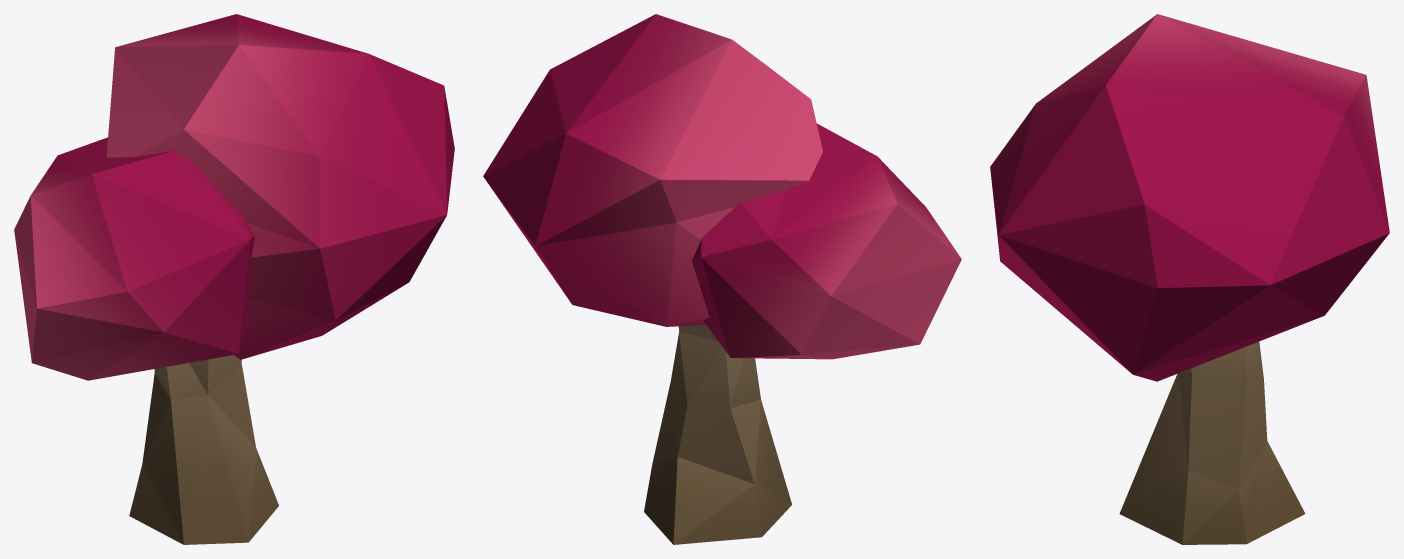
File: Tree_RedPlum.gltf
3 views of the same model, side by side, from view 1: azimuth 30°, elevation 25°; view 2: azimuth 150°, elevation 25°; view 3: azimuth 270°, elevation 25° (orthographic). The views are drawn at different scales.
Parts seen in each view (by area): view 1: Tree_RedPlum; view 2: Tree_RedPlum; view 3: Tree_RedPlum.
Boxes of the visible parts, left/top/right/bottom form: Tree_RedPlum: left=14, top=14, right=454, bottom=544; Tree_RedPlum: left=483, top=14, right=961, bottom=544; Tree_RedPlum: left=990, top=14, right=1389, bottom=544.
Bounding box in the file's own units: 4.57 × 4.8 × 3.45.
Materials: 1 (1 with a texture image).
